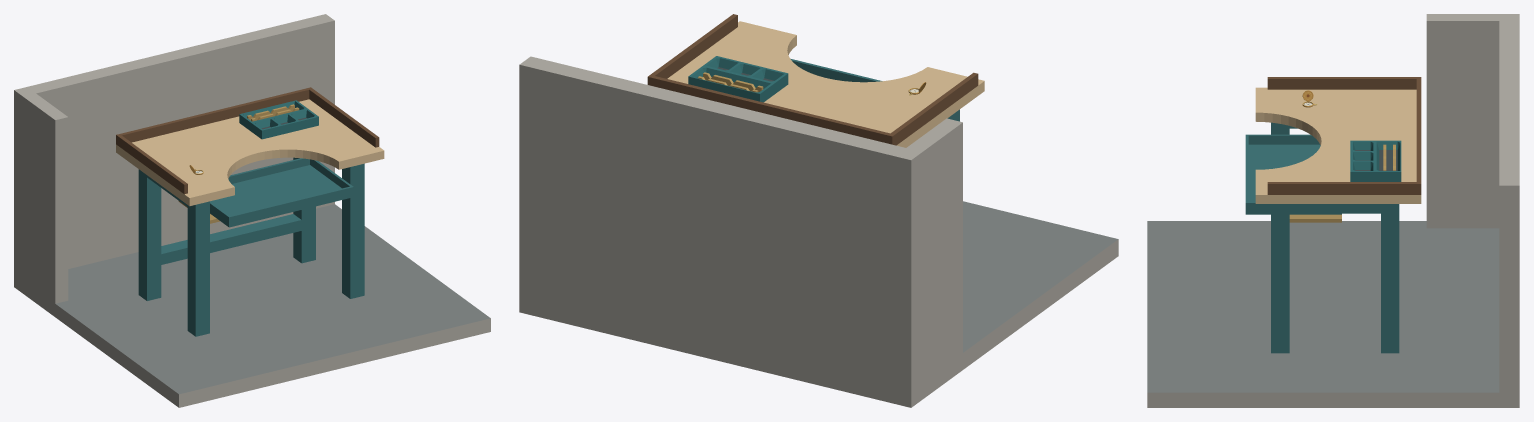
The picture shows the model from 3 angles, left to right: view 1: azimuth 30°, elevation 25°; view 2: azimuth 150°, elevation 25°; view 3: azimuth 270°, elevation 25°; orthographic projection. The views are drawn at different scales.
Parts seen in each view (by area): view 1: SCENE_ONLY__RepairFloorAndCutawayWalls, bench__Continuous_RecessFrontWorkboard, bench__Fixed_CompleteShallowCatchTray, bench__Continuous_ThickUBackstop, bench__Left_RearFullLeg, bench__Left_FrontFullLeg, bench__Right_FrontFullLeg, bench__Rear_LowerOpenFrameStretcher, tray__ContinuousThreePocketAndRearBasinBody, bench__Right_RearFullLeg; view 2: SCENE_ONLY__RepairFloorAndCutawayWalls, bench__Continuous_RecessFrontWorkboard, bench__Continuous_ThickUBackstop, tray__ContinuousThreePocketAndRearBasinBody, bench__Fixed_CompleteShallowCatchTray; view 3: SCENE_ONLY__RepairFloorAndCutawayWalls, bench__Continuous_RecessFrontWorkboard, bench__Continuous_ThickUBackstop, bench__Fixed_CompleteShallowCatchTray, bench__Right_FrontFullLeg, bench__Right_RearFullLeg, tray__ContinuousThreePocketAndRearBasinBody, bench__Right_UpperSideBeam, bench__Right_FixedTraySupportRail.
Boxes of the visible parts, bbox=[...] form: SCENE_ONLY__RepairFloorAndCutawayWalls: bbox=[14, 14, 490, 407]; bench__Continuous_RecessFrontWorkboard: bbox=[116, 99, 384, 206]; bench__Fixed_CompleteShallowCatchTray: bbox=[210, 158, 353, 227]; bench__Continuous_ThickUBackstop: bbox=[116, 87, 379, 194]; bench__Left_RearFullLeg: bbox=[138, 171, 161, 300]; bench__Left_FrontFullLeg: bbox=[187, 207, 209, 336]; bench__Right_FrontFullLeg: bbox=[342, 169, 364, 298]; bench__Rear_LowerOpenFrameStretcher: bbox=[161, 214, 301, 264]; tray__ContinuousThreePocketAndRearBasinBody: bbox=[239, 100, 318, 139]; bench__Right_RearFullLeg: bbox=[293, 157, 315, 263]; SCENE_ONLY__RepairFloorAndCutawayWalls: bbox=[519, 56, 1118, 407]; bench__Continuous_RecessFrontWorkboard: bbox=[667, 21, 984, 147]; bench__Continuous_ThickUBackstop: bbox=[647, 14, 978, 145]; tray__ContinuousThreePocketAndRearBasinBody: bbox=[688, 56, 788, 102]; bench__Fixed_CompleteShallowCatchTray: bbox=[790, 58, 882, 82]; SCENE_ONLY__RepairFloorAndCutawayWalls: bbox=[1147, 14, 1519, 407]; bench__Continuous_RecessFrontWorkboard: bbox=[1255, 87, 1421, 203]; bench__Continuous_ThickUBackstop: bbox=[1267, 77, 1421, 194]; bench__Fixed_CompleteShallowCatchTray: bbox=[1245, 134, 1341, 214]; bench__Right_FrontFullLeg: bbox=[1271, 213, 1289, 353]; bench__Right_RearFullLeg: bbox=[1381, 213, 1399, 353]; tray__ContinuousThreePocketAndRearBasinBody: bbox=[1350, 140, 1401, 181]; bench__Right_UpperSideBeam: bbox=[1271, 204, 1399, 213]; bench__Right_FixedTraySupportRail: bbox=[1289, 214, 1341, 222].
Bounding box in the file's own units: 2.4 × 1.45 × 2.2.
